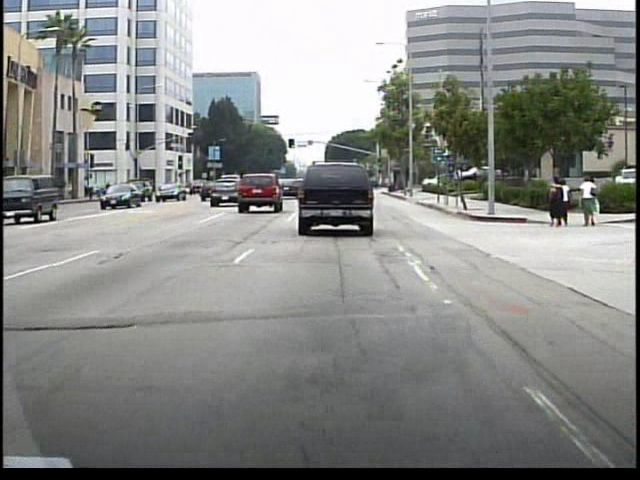person: (578, 174, 599, 229), (547, 176, 564, 231), (561, 181, 573, 228)
